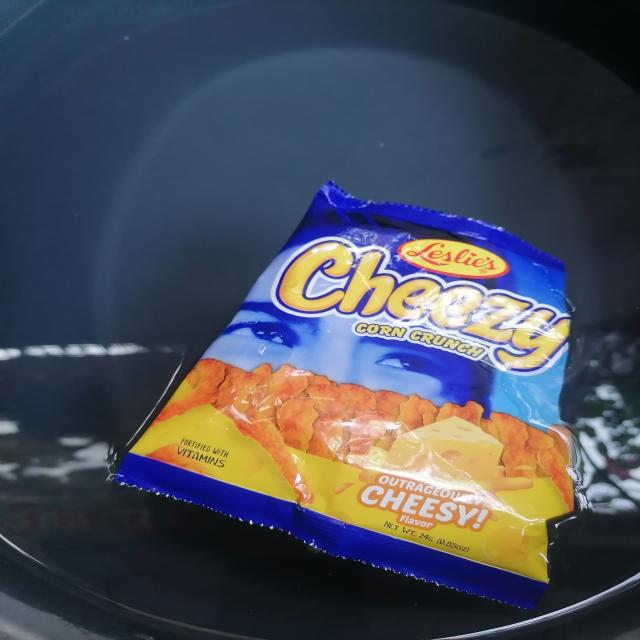Plastic Wrapper: (79, 167, 640, 618)
